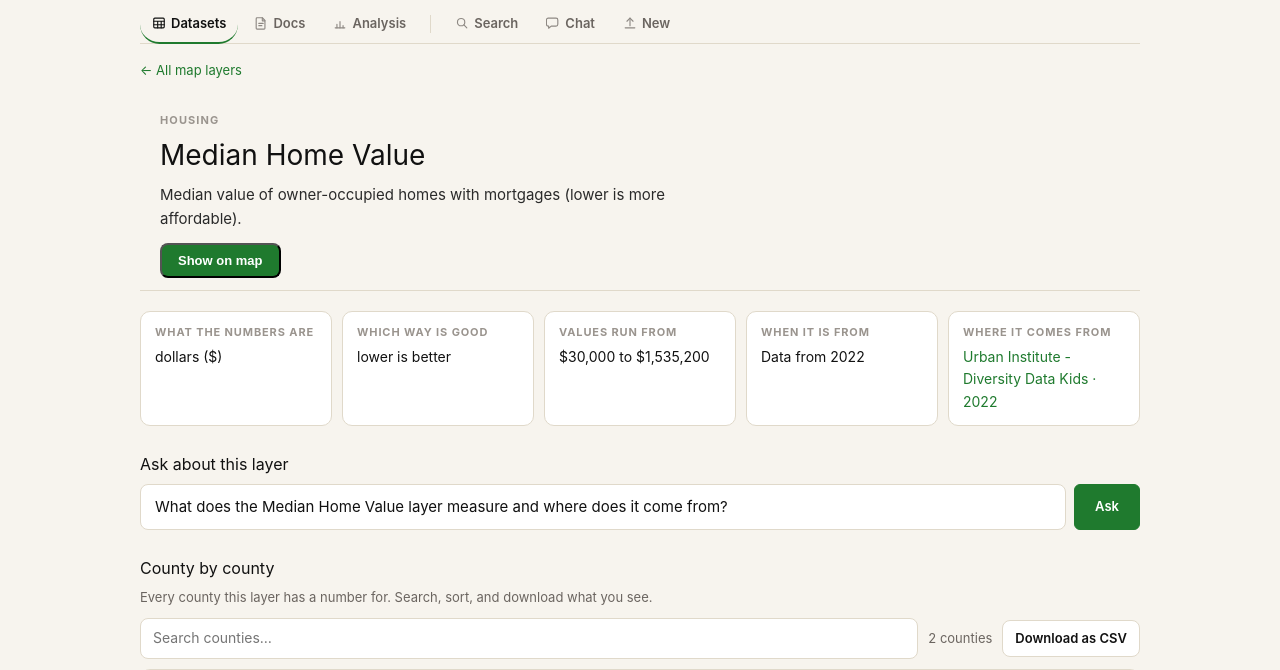
Test case: LayerAboutView — Show on map, in place (P6-14) › narrows to what the table is showing when the table is searched
The image size is (1280, 670).
Click the button with test id "layer-map-open": (220, 261) [160,243,280,278]
(page scrolled)
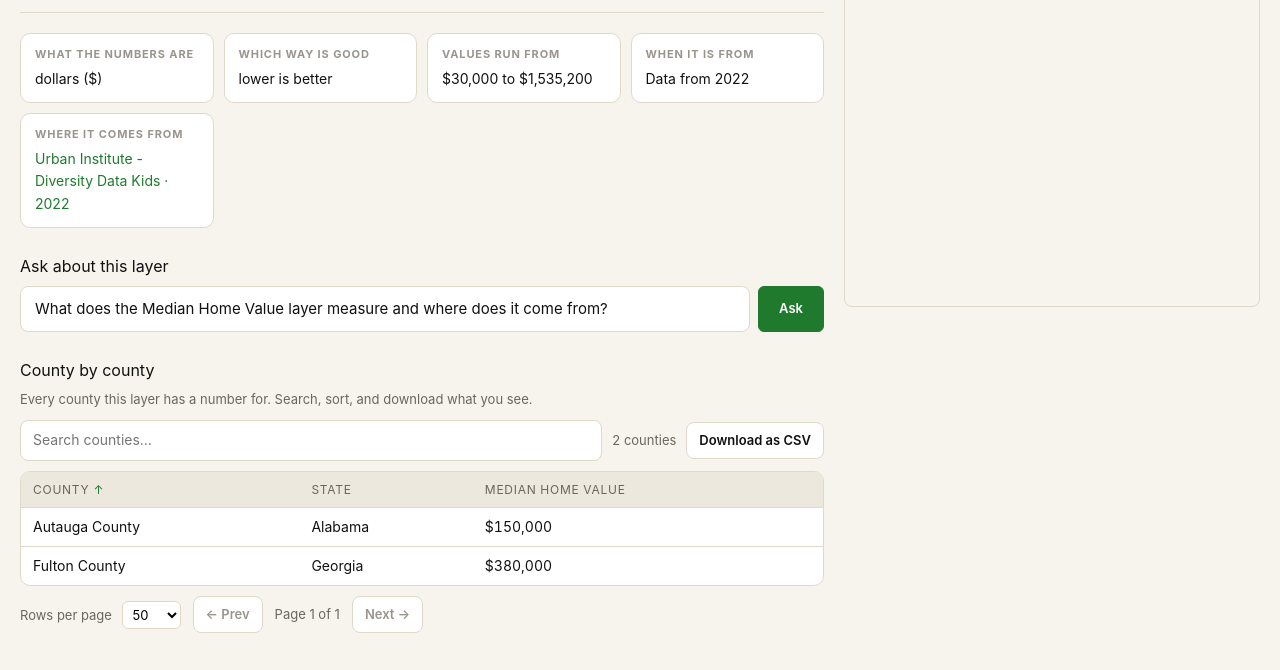
In the search field with test id "county-search": (311, 440) [20,420,602,460], type "Fulton"
(page scrolled)
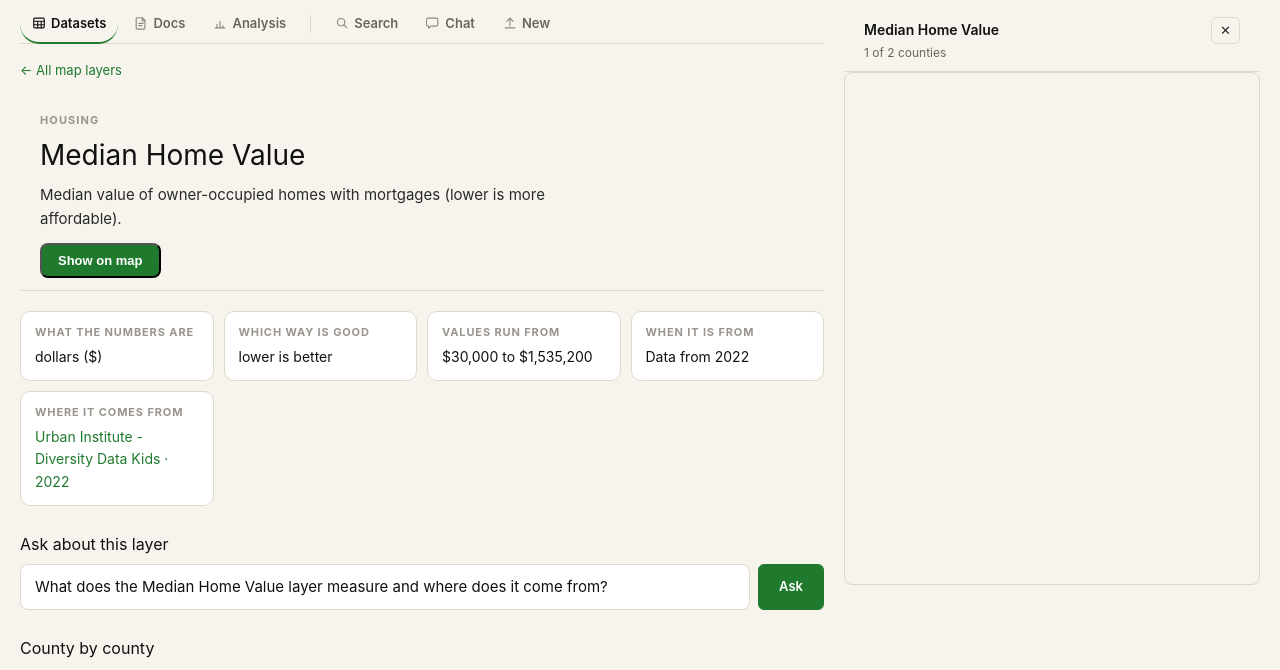
Result: the text with test id "layer-map-pane-note" reads "1 of 2 counties" at [864,45,946,60]
